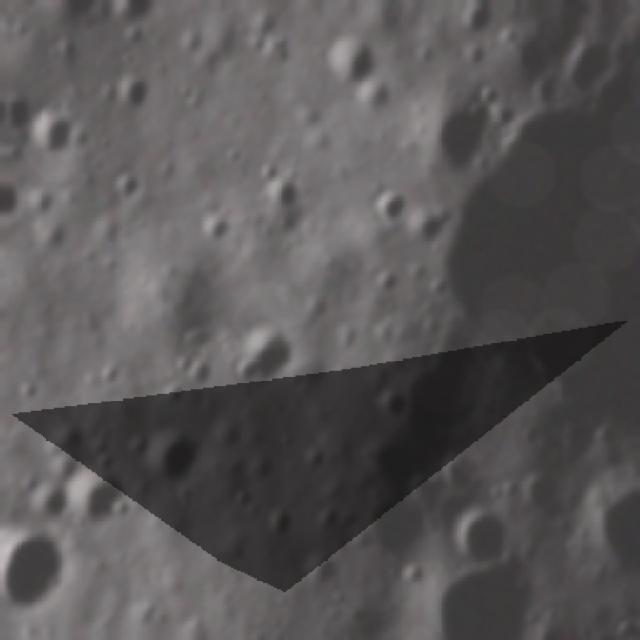crater: (431, 554, 549, 640), (408, 80, 495, 185), (0, 517, 82, 623), (221, 312, 307, 396), (60, 456, 135, 536), (138, 416, 213, 492), (444, 506, 524, 574), (313, 28, 381, 92), (26, 97, 85, 163), (348, 68, 398, 130), (356, 181, 413, 230), (20, 481, 72, 532), (434, 446, 491, 492), (254, 168, 303, 217), (367, 380, 415, 422), (108, 0, 167, 34), (409, 205, 457, 246), (256, 502, 298, 548), (445, 4, 497, 38), (192, 206, 233, 249), (6, 0, 28, 77), (364, 262, 405, 300), (178, 314, 220, 351), (108, 166, 143, 209), (417, 272, 454, 308), (2, 173, 28, 224), (102, 0, 202, 11), (168, 349, 200, 378), (13, 372, 42, 402), (93, 356, 121, 387), (160, 381, 186, 408)
